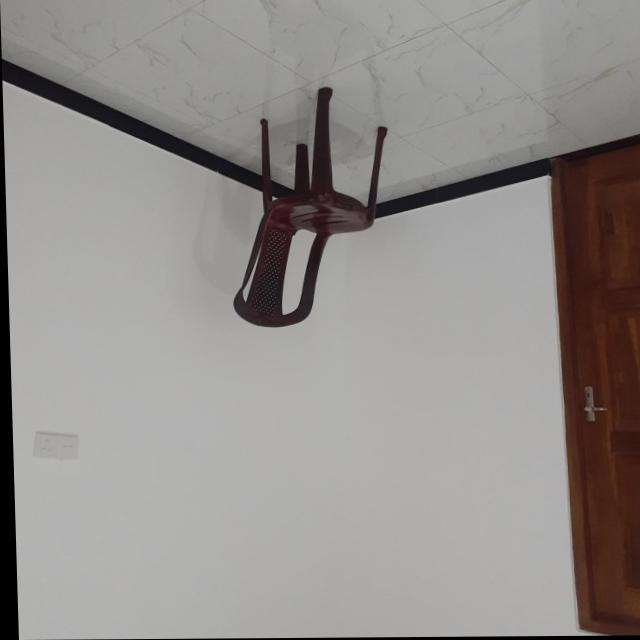Chair: (226, 87, 391, 329)
